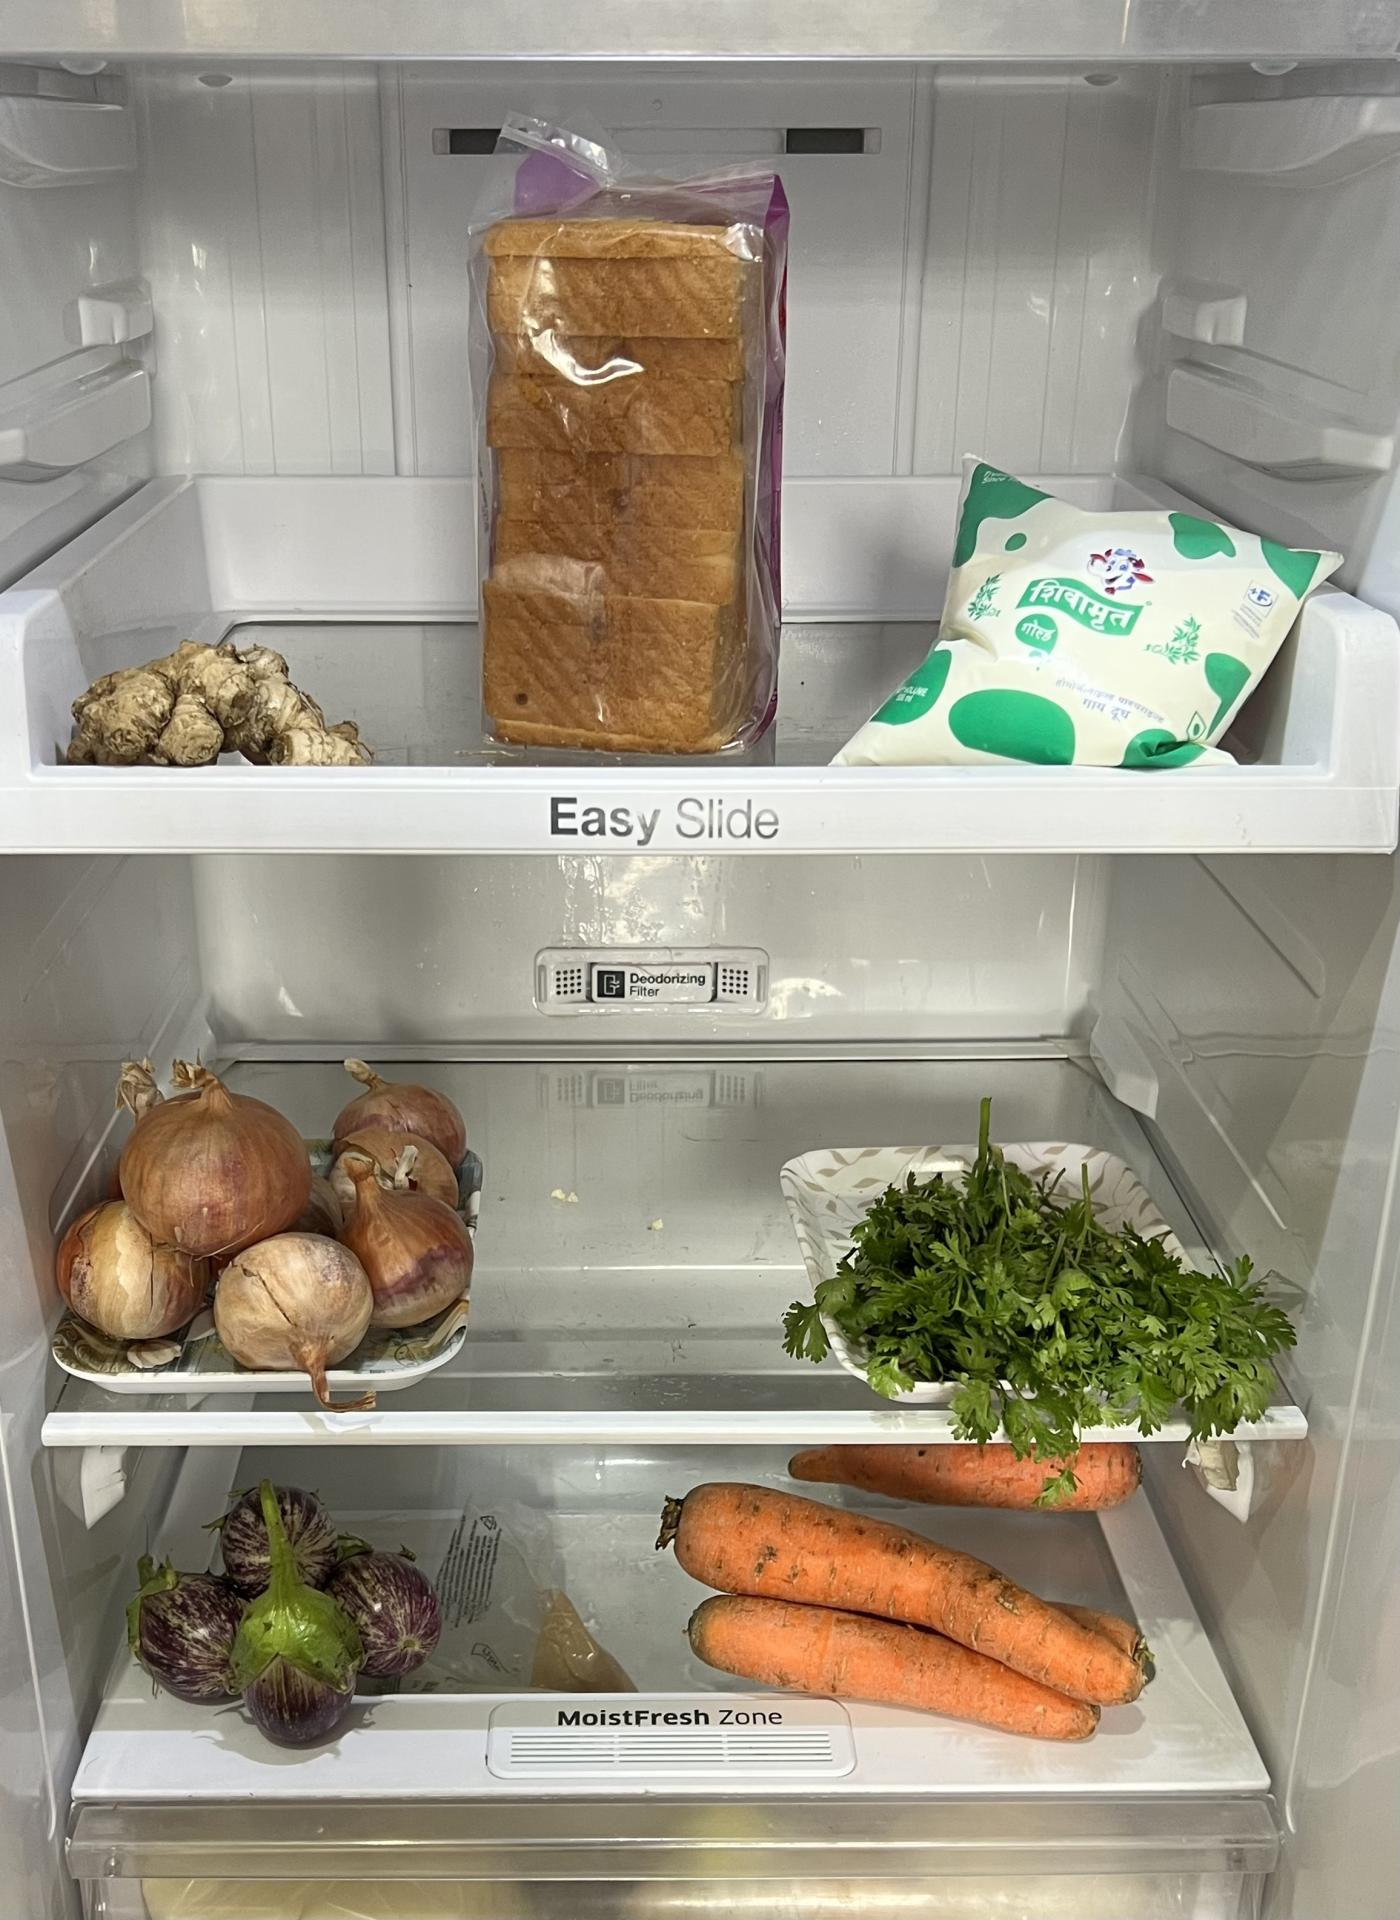bread: (435, 167, 787, 754)
carrots: (652, 1440, 1167, 1747)
coriander: (759, 1134, 1317, 1436)
ginger: (58, 635, 395, 778)
milk: (830, 452, 1334, 772)
onion: (55, 1061, 482, 1370)
